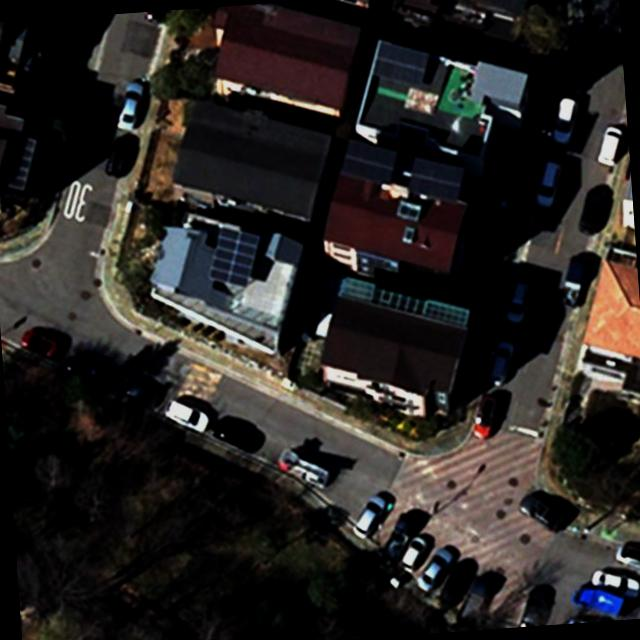solar: (203, 221, 264, 292), (402, 150, 470, 208), (334, 132, 402, 188), (366, 37, 433, 92)
